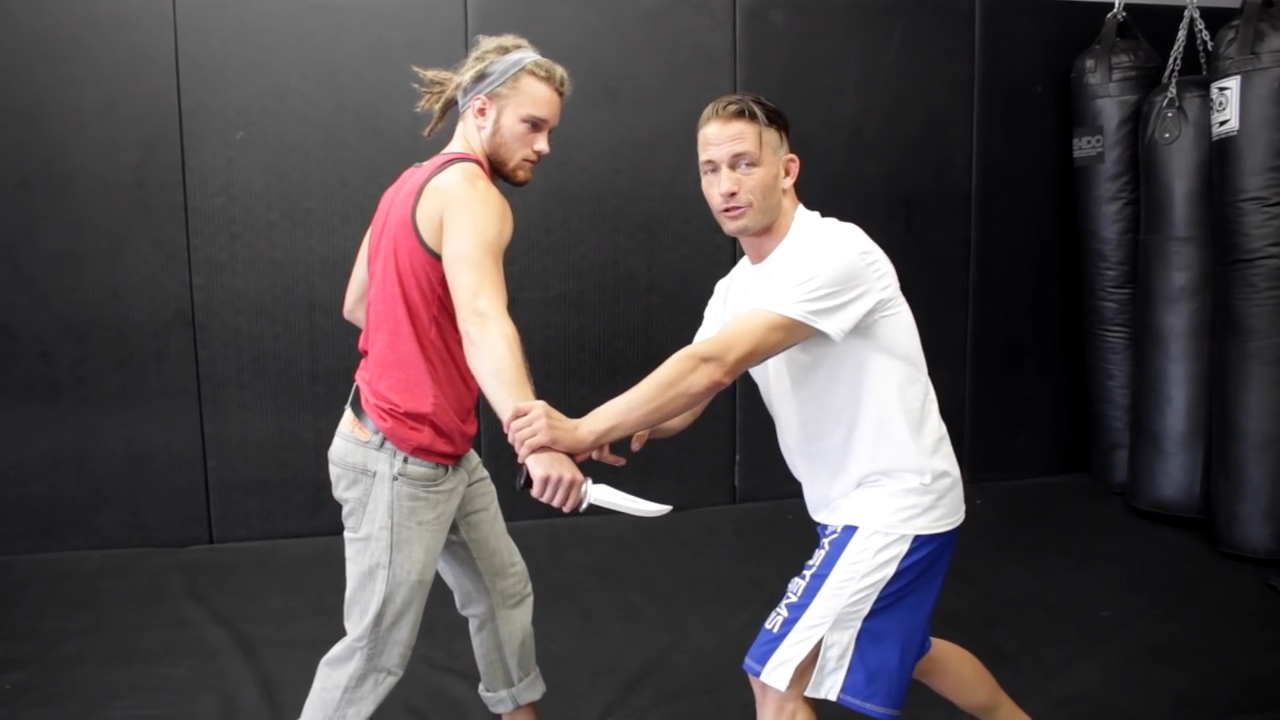knife: (514, 463, 683, 529)
